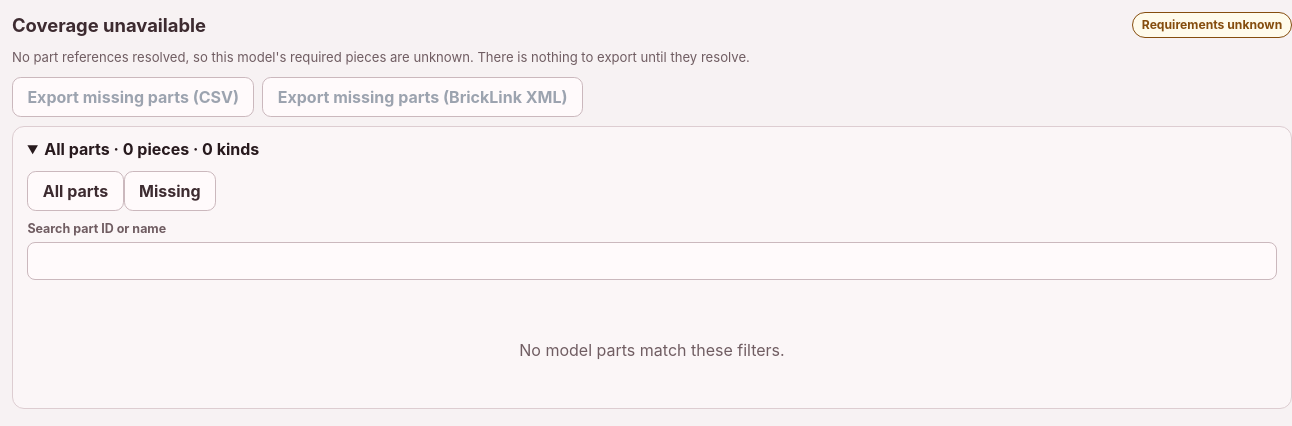
Test: model coverage panel verdict › keeps the completeness claim out of the missing-only empty state
What coordinates should you click on to do the following:
click the button "Missing"
I would click on:
 (170, 191)
Its box is [124,171,216,211].
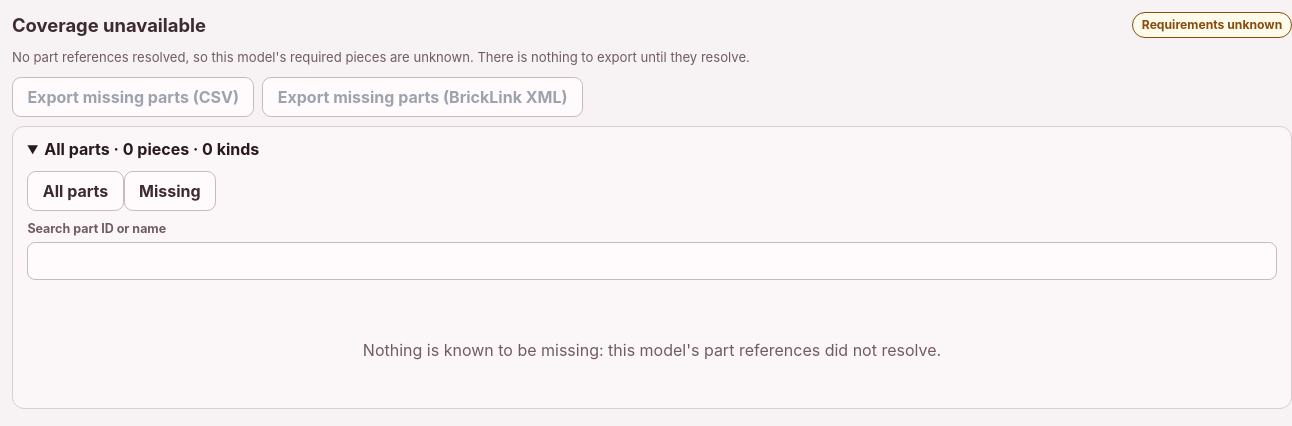
Check: the text "Nothing is known to be missing: this model's part references did not resolve." is shown, box [363,340,941,360]
